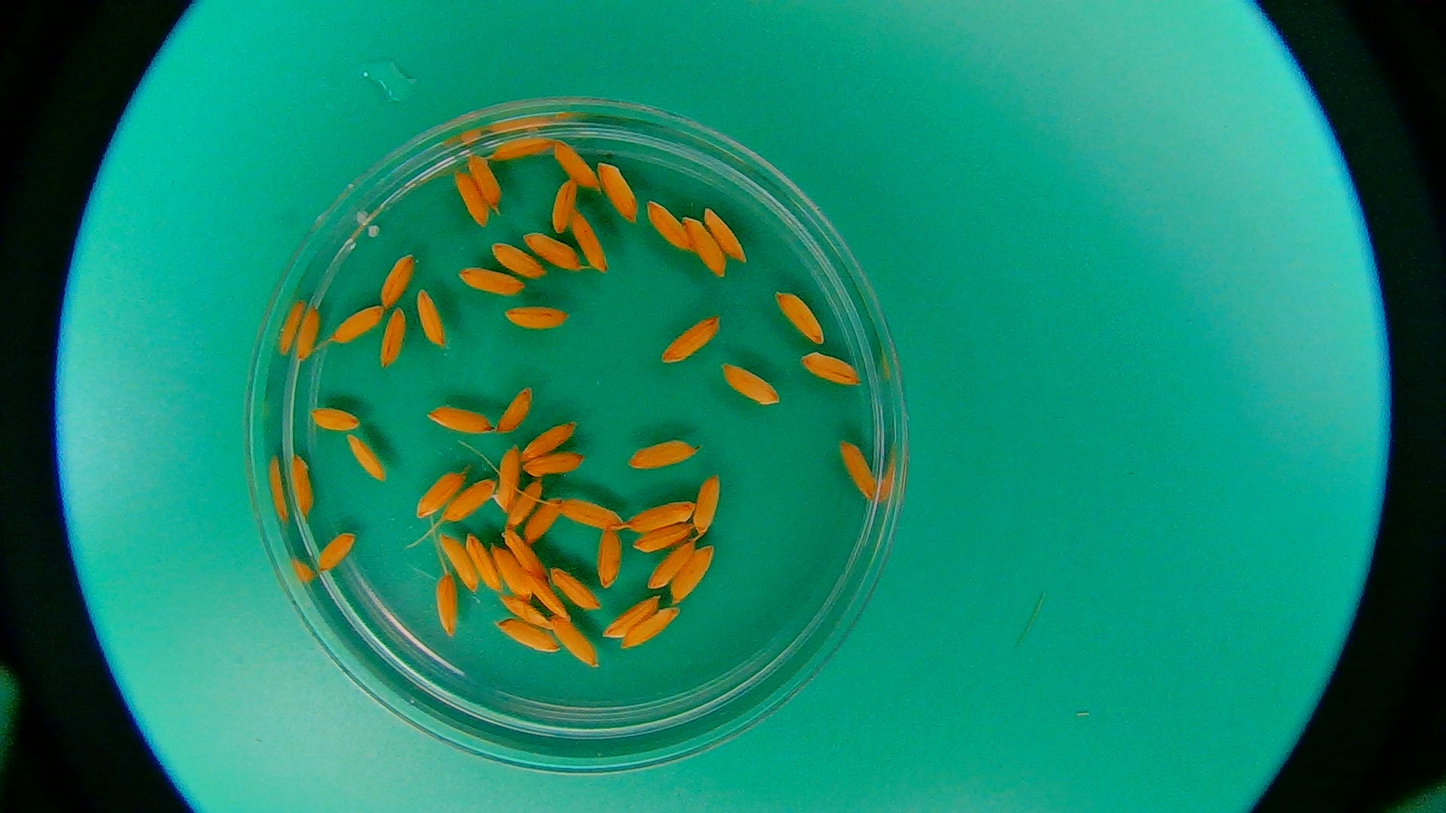no: (717, 356, 784, 413), (679, 210, 729, 282), (660, 309, 719, 367), (546, 611, 601, 672), (566, 203, 612, 275), (775, 285, 828, 346), (665, 545, 718, 606), (601, 592, 665, 642), (487, 538, 534, 606), (596, 157, 641, 227), (441, 472, 496, 528), (523, 571, 574, 630), (702, 202, 749, 266), (550, 562, 605, 616), (447, 160, 488, 232), (643, 539, 698, 592), (837, 434, 879, 503), (520, 227, 582, 273), (284, 450, 323, 523), (619, 605, 682, 650), (643, 197, 692, 254), (493, 616, 561, 657), (624, 496, 697, 534), (622, 437, 706, 470), (498, 528, 549, 582), (436, 531, 479, 595), (416, 468, 468, 520), (340, 431, 389, 486), (554, 136, 601, 193), (518, 418, 576, 464), (557, 493, 627, 531), (465, 529, 505, 594), (490, 239, 551, 281), (429, 567, 463, 642), (424, 403, 496, 438), (468, 151, 505, 219), (800, 348, 864, 387), (629, 520, 697, 556), (452, 263, 526, 296), (496, 593, 554, 635), (499, 302, 571, 335), (331, 305, 385, 348), (522, 494, 564, 549), (378, 247, 415, 309), (494, 379, 533, 436), (415, 284, 447, 350), (311, 532, 359, 576), (506, 477, 544, 532), (380, 305, 410, 373), (692, 470, 722, 538), (521, 450, 587, 480), (490, 446, 519, 513), (487, 136, 554, 165), (549, 177, 582, 234), (309, 401, 363, 435)
